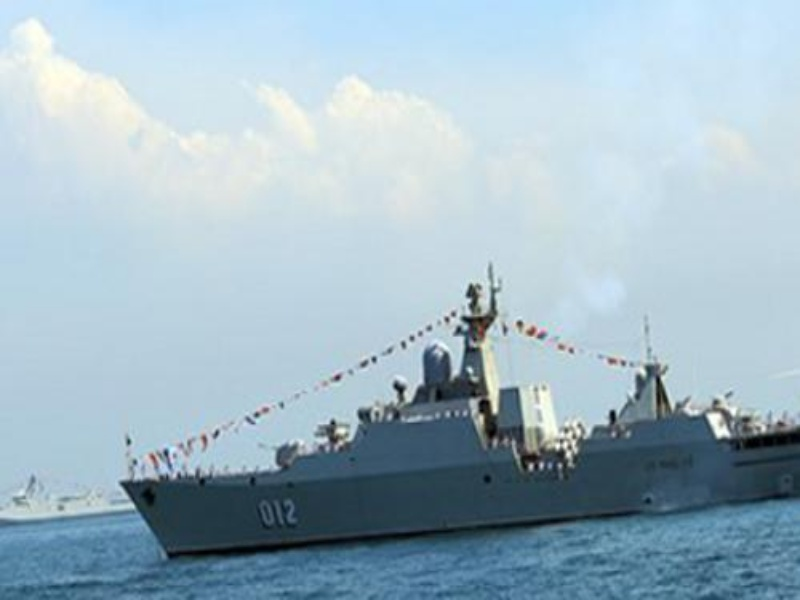cruise: (138, 277, 796, 555), (5, 470, 122, 523)
